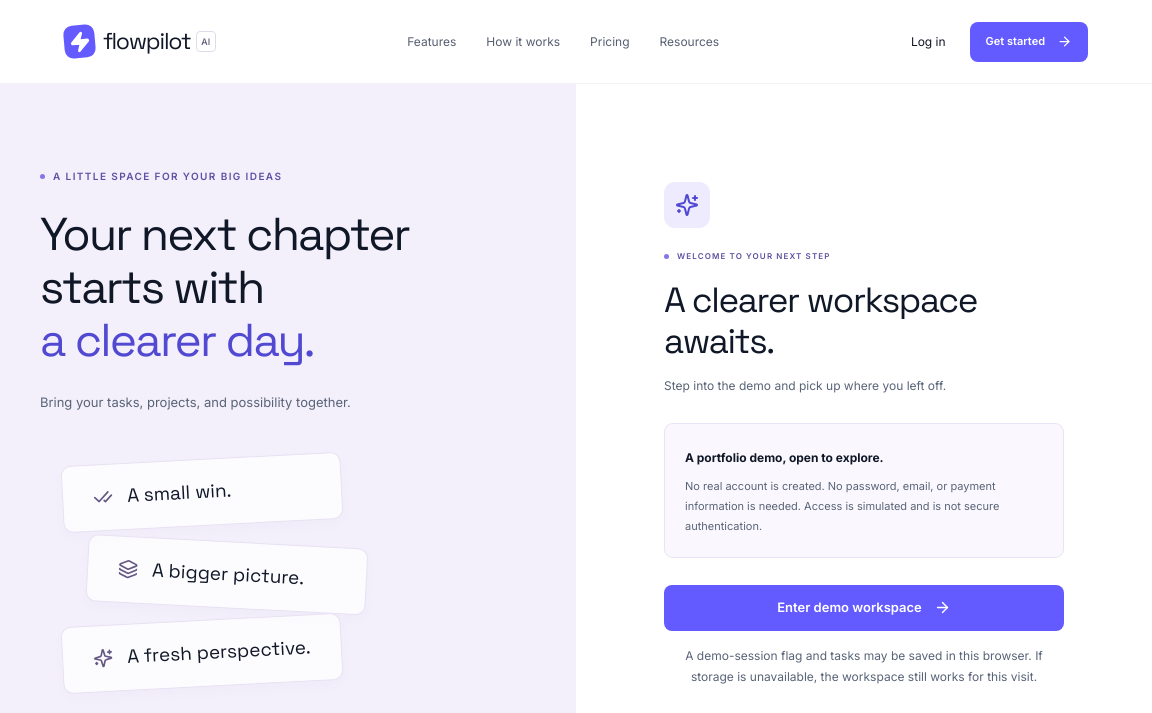
Test: user journeys › protects the demo route and enters without credentials
The width and height of the screenshot is (1152, 713).
Click the button "Enter demo workspace".
click(864, 608)  # box [664,585,1064,631]
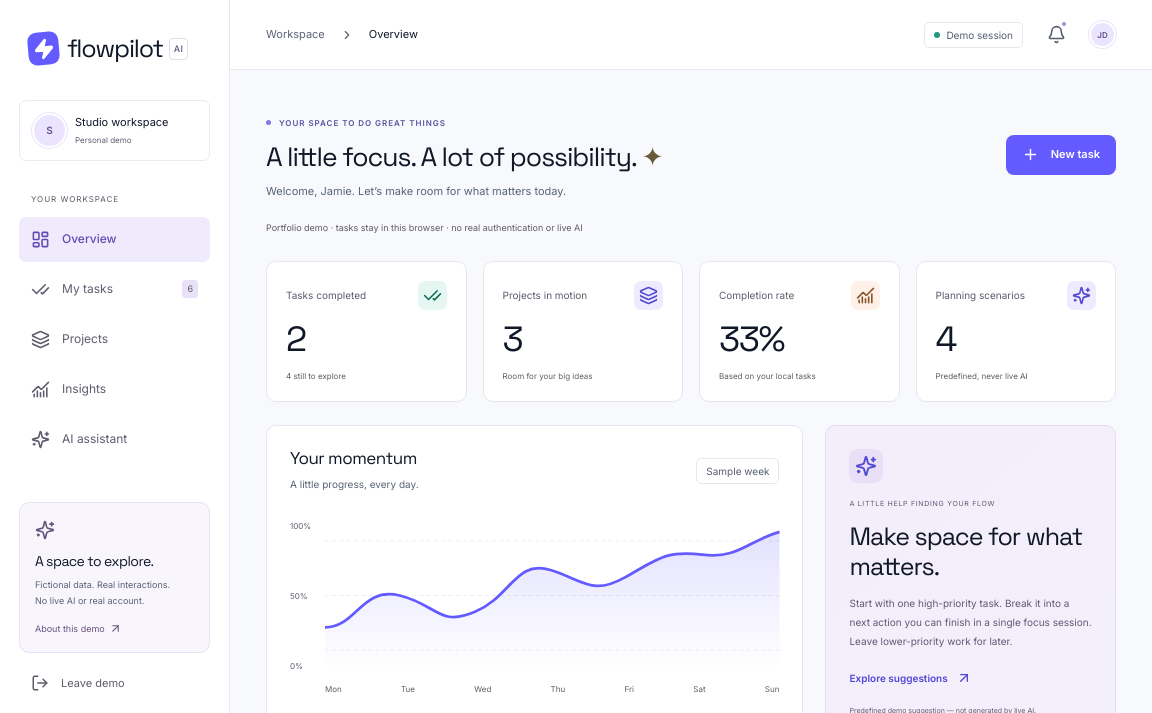
Check: the text "Welcome, Jamie. Let’s make room for what matters today." is shown, box [266,184,566,198]
